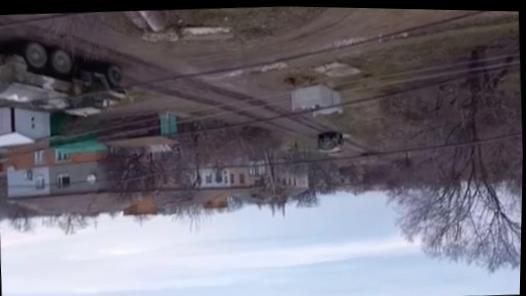truck: (0, 36, 133, 120), (315, 129, 344, 155)
